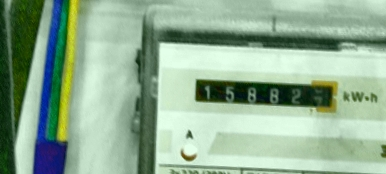1: (201, 83, 212, 102)
2: (289, 87, 301, 105)
5: (222, 85, 235, 103)
7: (311, 95, 322, 109)
8: (245, 86, 257, 104), (268, 88, 279, 104)
screen: (186, 68, 344, 118)
